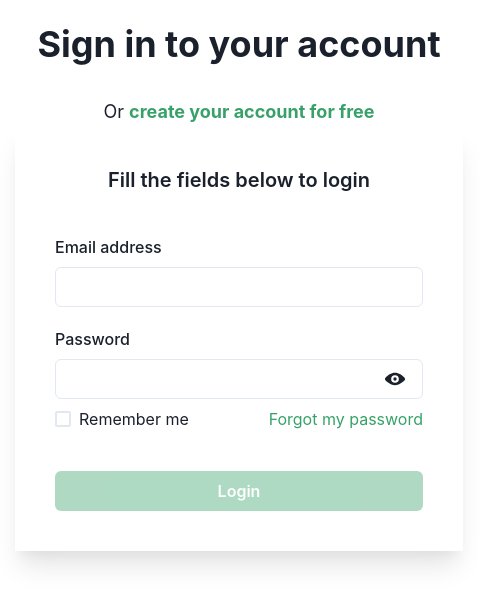
it: Teste da tela de login › Teste de layout do campo de Email
Type "campovazio" into the field labelled "Email address". click: point(239, 287)
box: [55, 267, 423, 307]
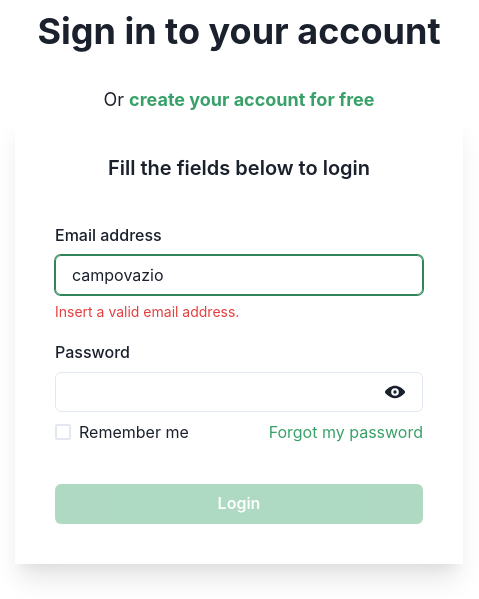
Clear the field labelled "Email address". click: point(239, 275)
box: [55, 255, 423, 295]
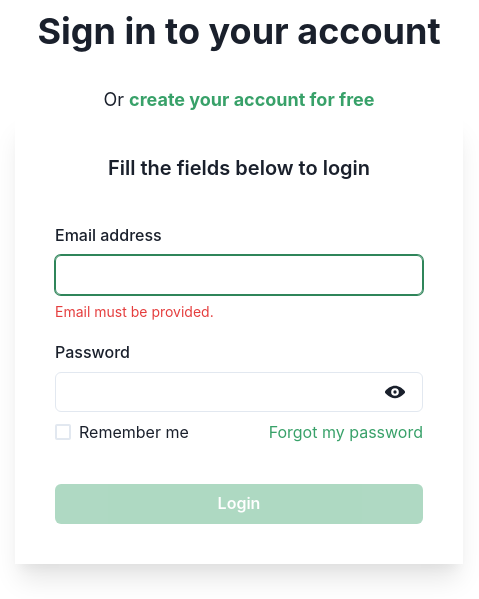
expect the text with id "field-1-feedback" reads "Email must be provided.": met, box [55, 303, 214, 320]
Type "emailinvalido" into the field labelled "Email address". click: point(239, 275)
box: [55, 255, 423, 295]
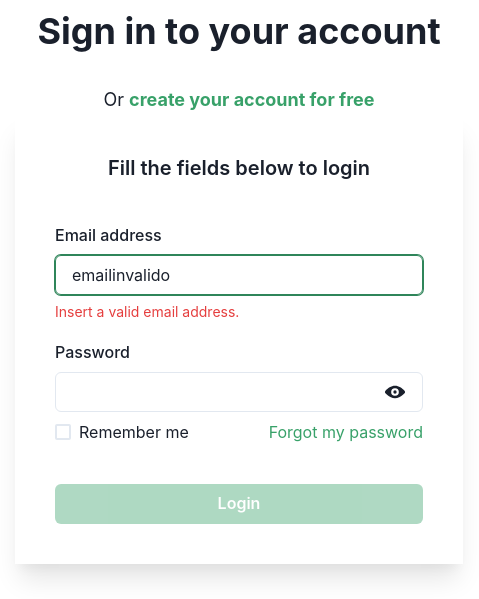
expect the text with id "field-1-feedback" reads "Insert a valid email address.": met, box [55, 303, 239, 320]
Replace the text in the field labelled "Email address" with "email@teste.com". click: point(239, 275)
box: [55, 255, 423, 295]
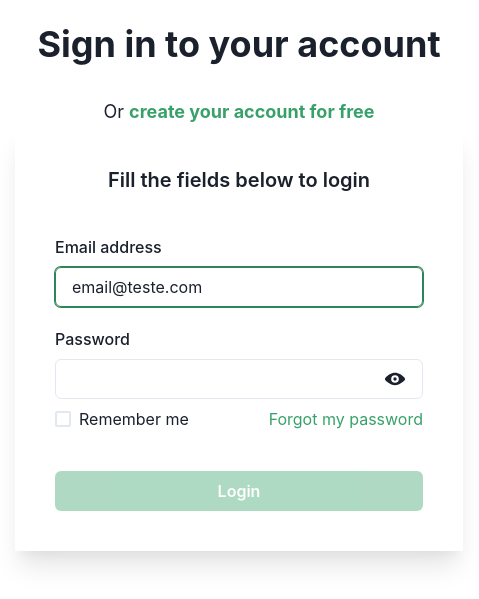
expect the field labelled "Email address" holds "email@teste.com": met, box [55, 267, 423, 307]
